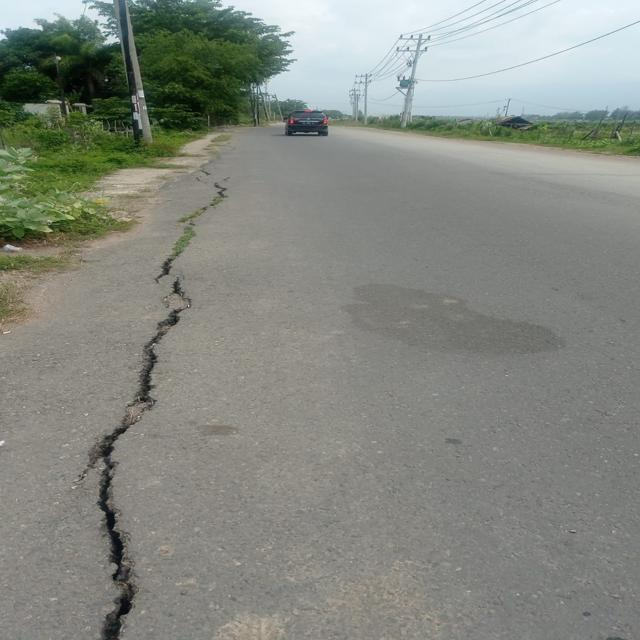Memanjang: (68, 165, 241, 640)
